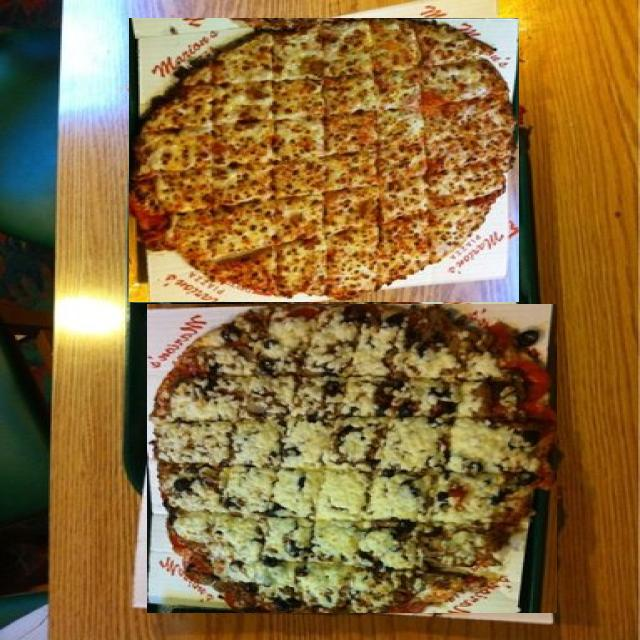pizza: (147, 304, 557, 613), (129, 18, 519, 302)
